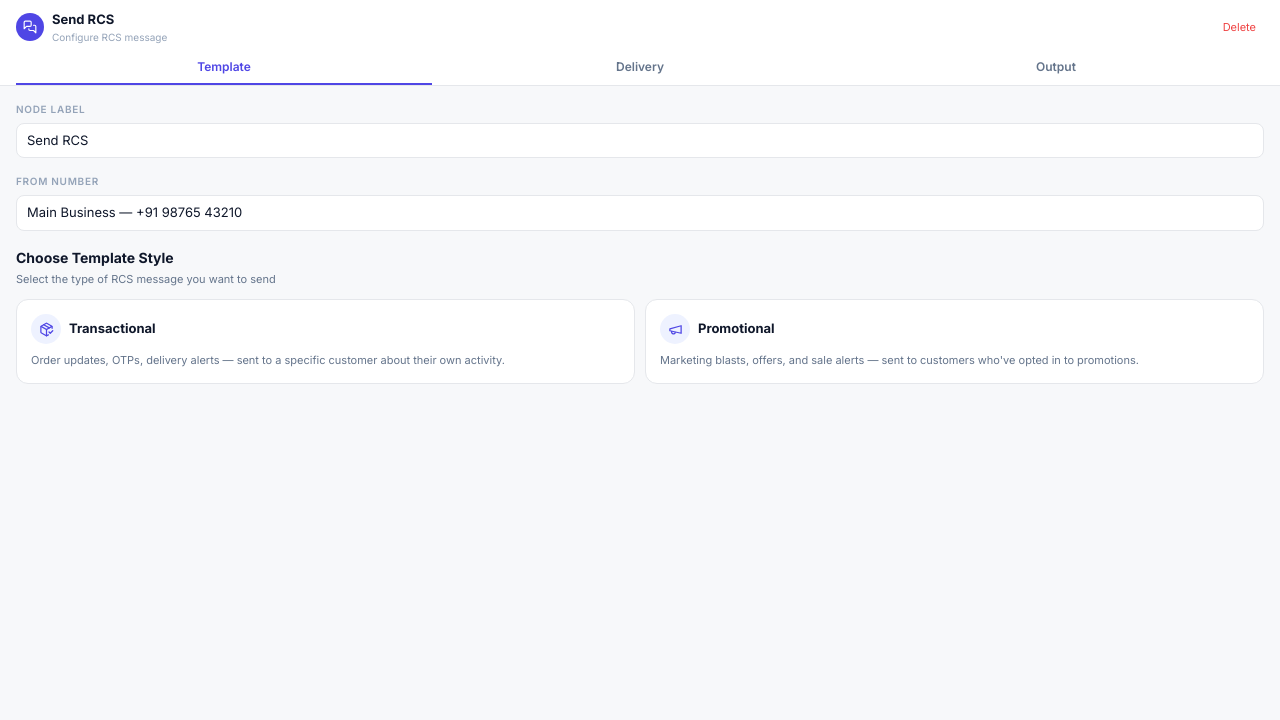
it: RCSRightPanel — Template Style picker › filters the modal's templates to the chosen style (Promotional excludes Transactional-only templates)
This screenshot has width=1280, height=720.
Click the text "Promotional" at (736, 329), box [698, 319, 775, 339]
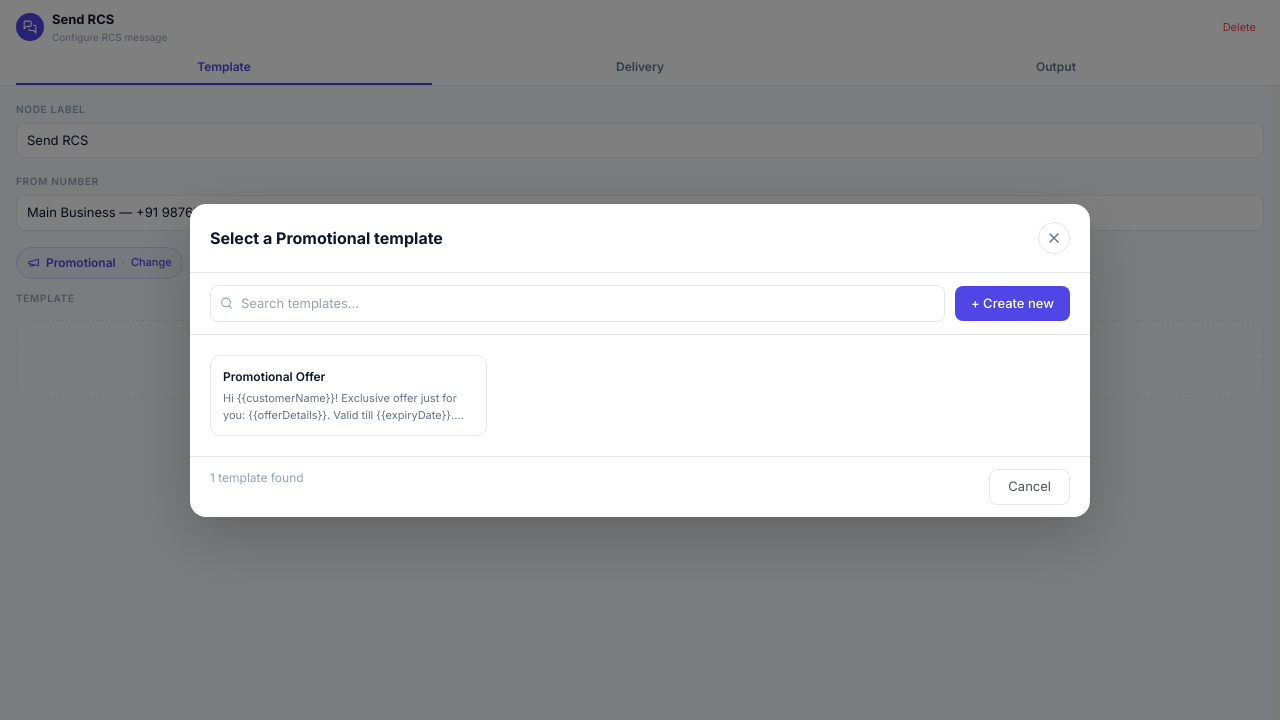
Check: the text "Promotional Offer" is shown, box [223, 369, 325, 384]
